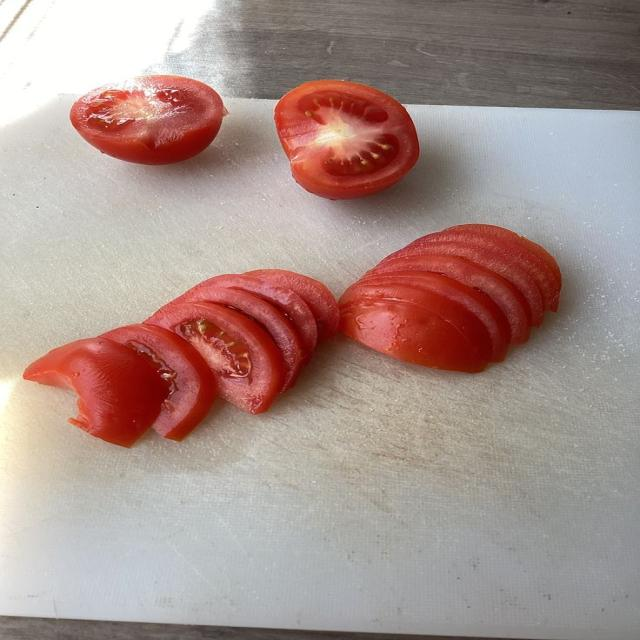sliced_tomato: (274, 80, 419, 199), (23, 337, 166, 446), (366, 255, 530, 343), (154, 303, 284, 413), (381, 241, 544, 326), (359, 271, 510, 362), (70, 76, 226, 164), (101, 324, 217, 440), (180, 285, 304, 390), (408, 226, 559, 311), (340, 283, 492, 365), (174, 275, 317, 362), (340, 299, 486, 372), (450, 224, 562, 289), (247, 269, 339, 338)
